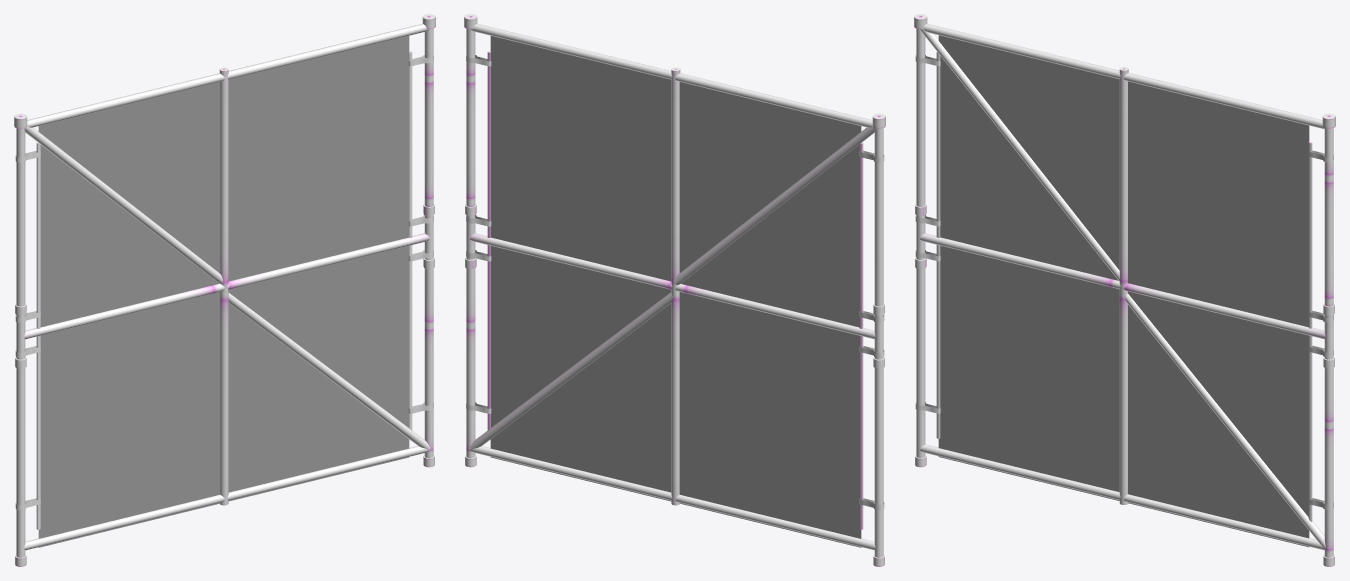
The model's file is fixedfence.fbx.
The picture shows the model from 3 angles, left to right: view 1: azimuth 30°, elevation 25°; view 2: azimuth 150°, elevation 25°; view 3: azimuth 330°, elevation 25°; orthographic projection.
Visible parts, largest first — view 1: Grid_Fence__1_; view 2: Grid_Fence__1_; view 3: Grid_Fence__1_.
Boxes of the visible parts, x1=… form: Grid_Fence__1_: x1=14, y1=14, x2=435, y2=566; Grid_Fence__1_: x1=464, y1=14, x2=885, y2=566; Grid_Fence__1_: x1=914, y1=14, x2=1335, y2=566.
Bounding box in the file's own units: 202 × 206 × 5.32.
